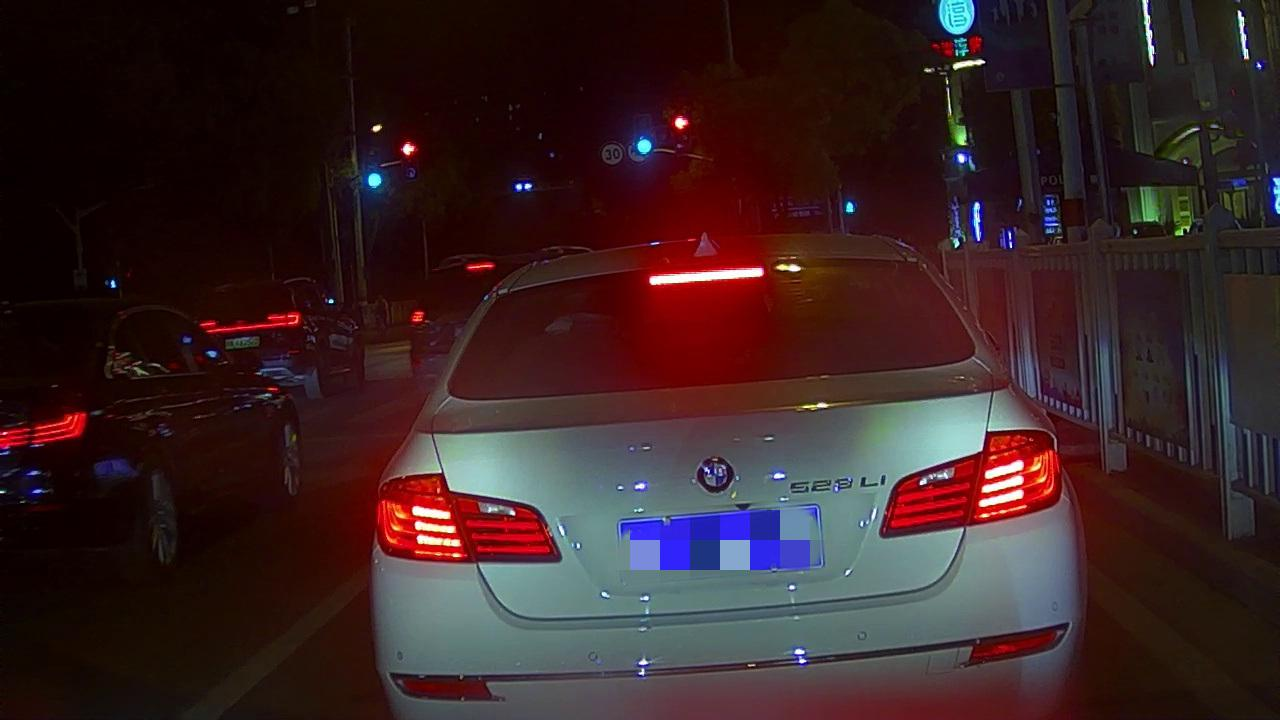traffic_light: (670, 112, 691, 133), (633, 136, 655, 156), (364, 170, 385, 190), (397, 139, 419, 158)
